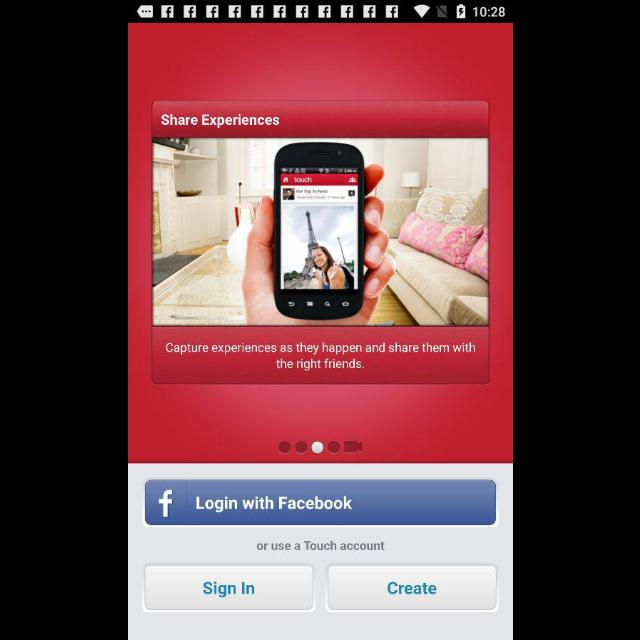image: (152, 138, 488, 326)
pageindicator: (278, 440, 362, 454)
text: (165, 343, 475, 371), (160, 114, 280, 128), (256, 540, 388, 550)
textbutton: (144, 480, 496, 526), (144, 566, 314, 610), (327, 566, 496, 610)
uppertaskbar: (128, 1, 512, 23)
